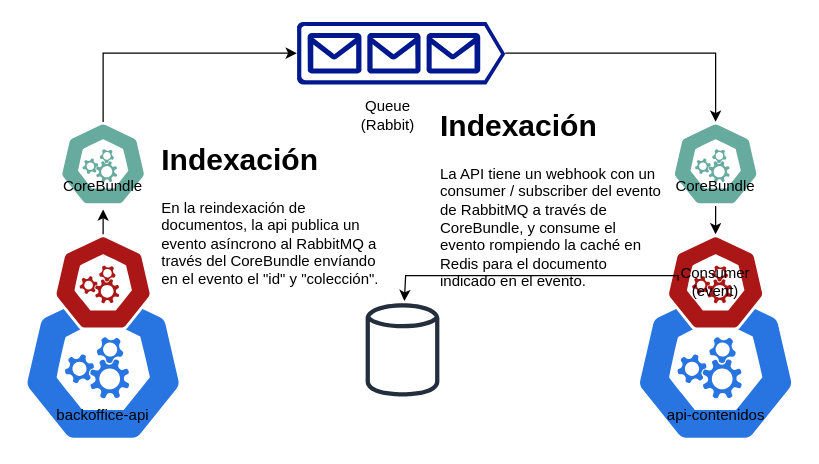
Some shapes in this 819 by 464 pixel diagram are drawn without their labels. Each missing label, with the centre of its shape:
Publisher (event): [102,281]
Redis: [402,349]
